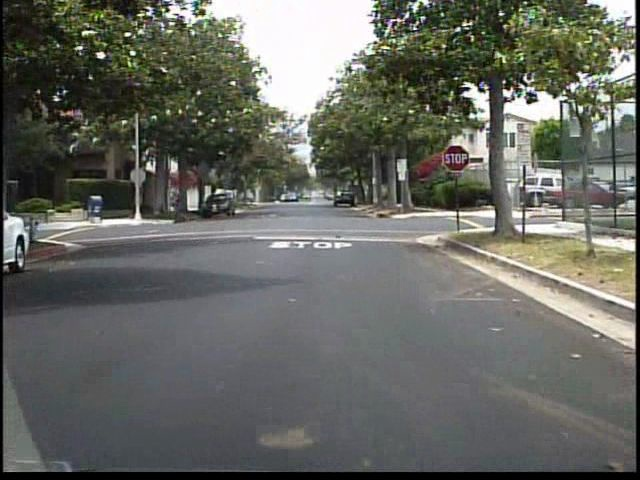person: (167, 179, 190, 227)
